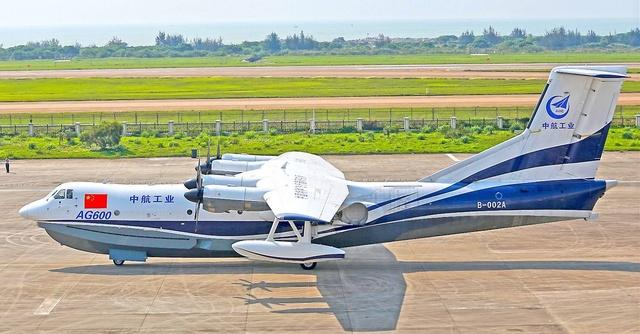airplane: (16, 60, 640, 269)
